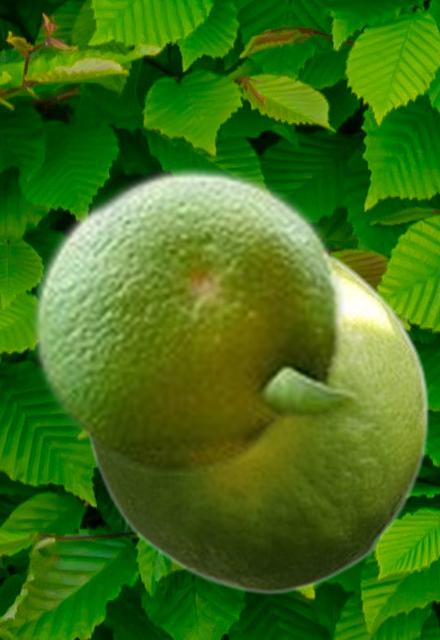dalandan: (88, 256, 428, 594), (29, 163, 365, 474)
